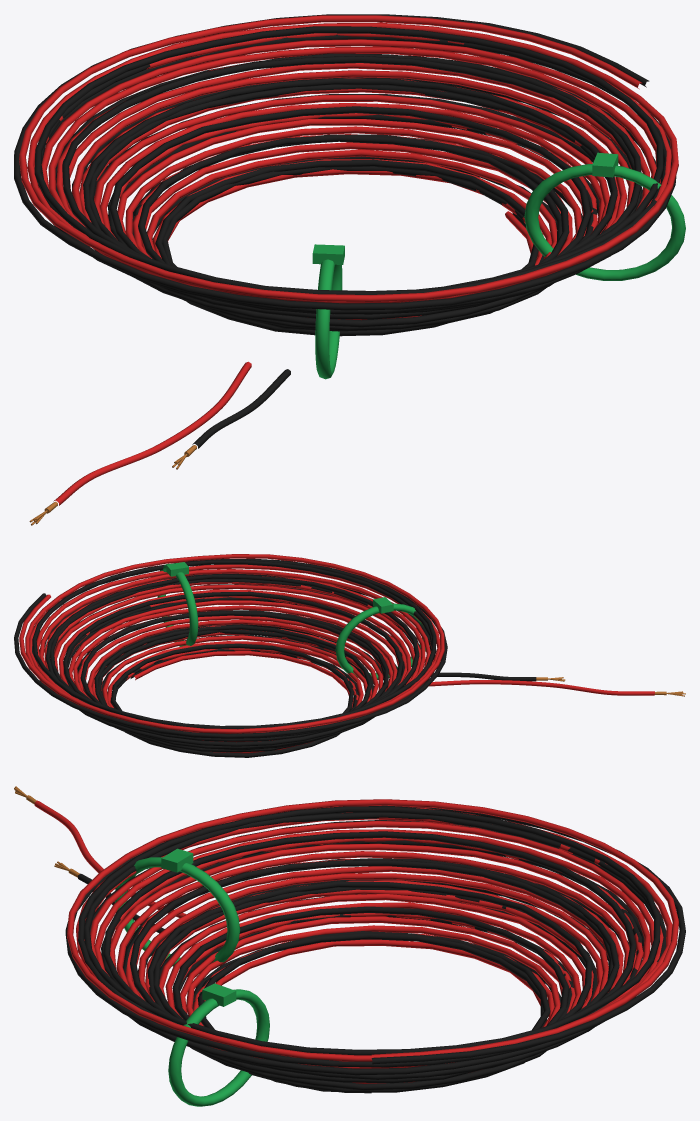
Rendered from 07-cable-twin-red-black-coil.glb.
The picture shows the model from 3 angles, top to bottom: view 1: azimuth 30°, elevation 25°; view 2: azimuth 150°, elevation 25°; view 3: azimuth 270°, elevation 25°; orthographic projection. The views are drawn at different scales.
Size of the model in its own units: 0.401 by 0.0568 by 0.3112.
